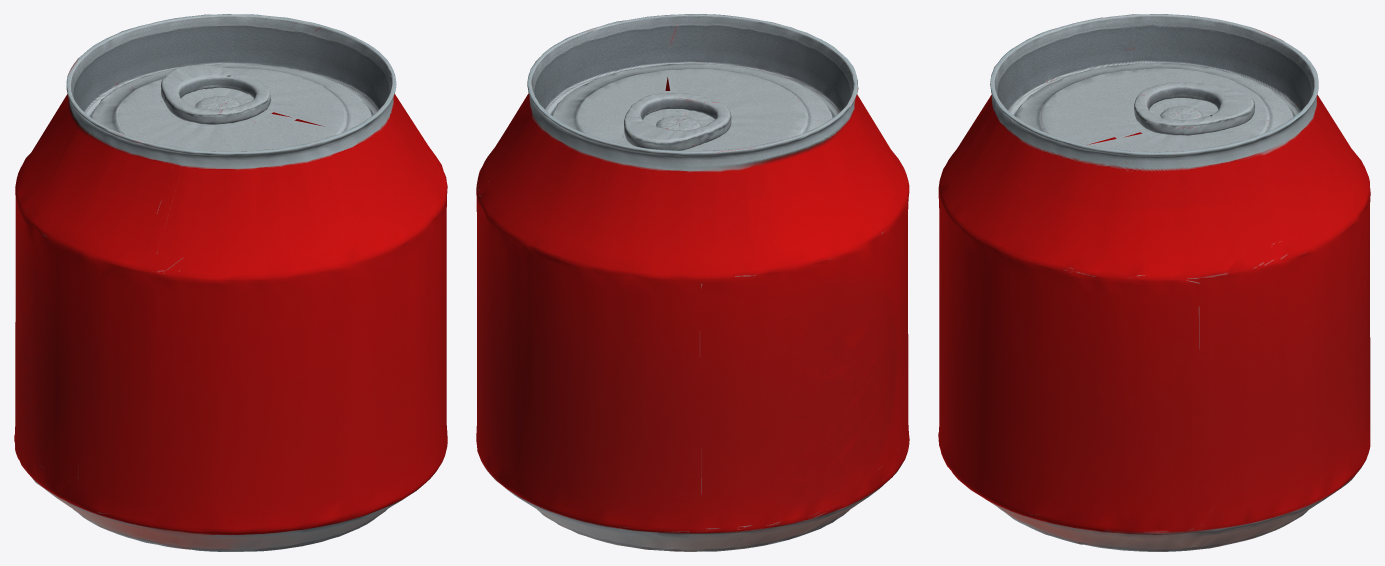
File: sodacan_cartoon.glb
The picture shows the model from 3 angles, left to right: view 1: azimuth 30°, elevation 25°; view 2: azimuth 150°, elevation 25°; view 3: azimuth 270°, elevation 25°; orthographic projection.
Bounding box in the file's own units: 0.9975 × 1 × 0.9902.
1 material, 1 textured.
